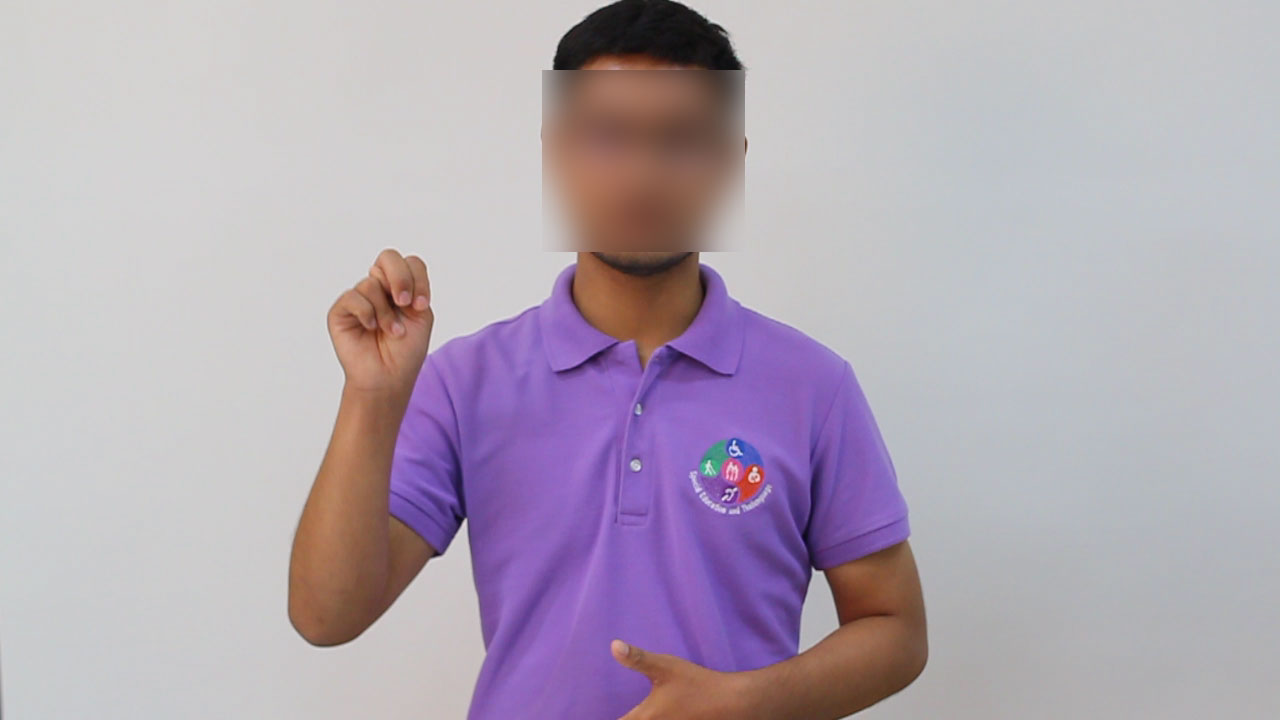nor: (323, 239, 444, 405)
